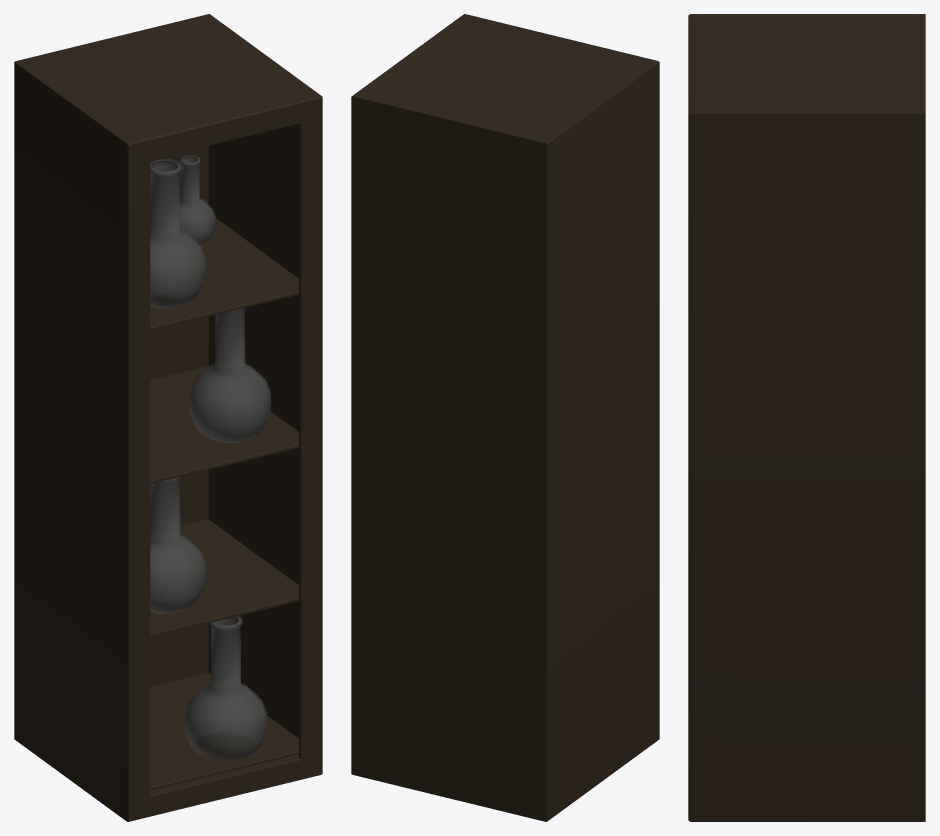
The model's file is potion4_shelf.fbx.
3 renders of one model, left to right at view 1: azimuth 30°, elevation 25°; view 2: azimuth 150°, elevation 25°; view 3: azimuth 270°, elevation 25°, orthographic. The views are drawn at different scales.
Parts seen in each view (by area): view 1: shelf_potion4; view 2: shelf_potion4; view 3: shelf_potion4.
Part boxes in pixels (left/top/right/bottom): shelf_potion4: left=14, top=14, right=322, bottom=821; shelf_potion4: left=351, top=14, right=659, bottom=821; shelf_potion4: left=688, top=14, right=925, bottom=821.
Bounding box in the file's own units: 99.62 × 330 × 99.95.
